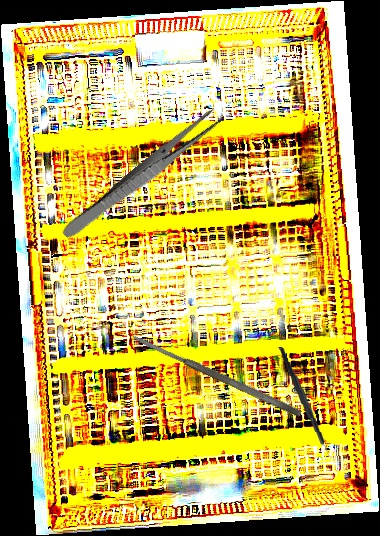Chopper: (278, 343, 339, 465)
Dressing Forceps: (59, 105, 225, 245)
Spatula Surgical: (130, 331, 303, 419)
